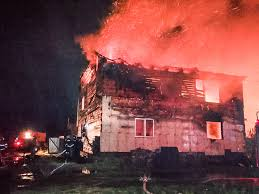fire: (83, 23, 249, 103)
